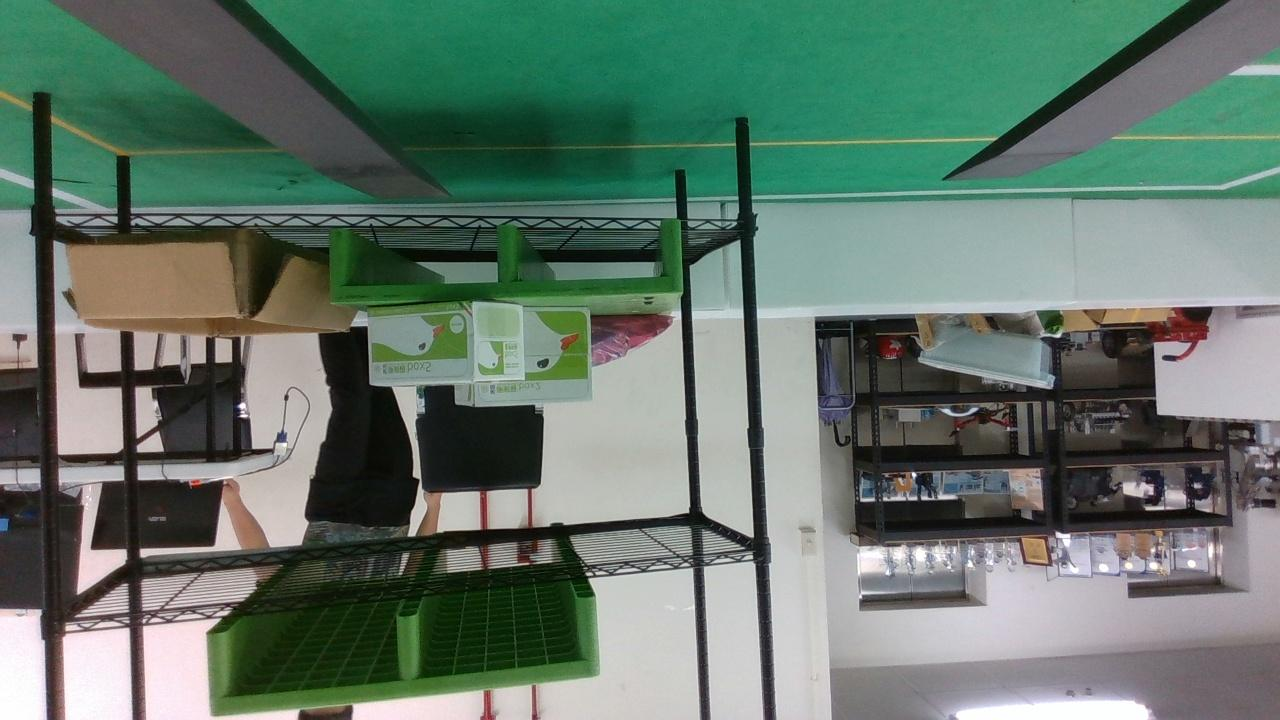Pallet: (200, 586, 606, 720), (330, 219, 690, 302)
